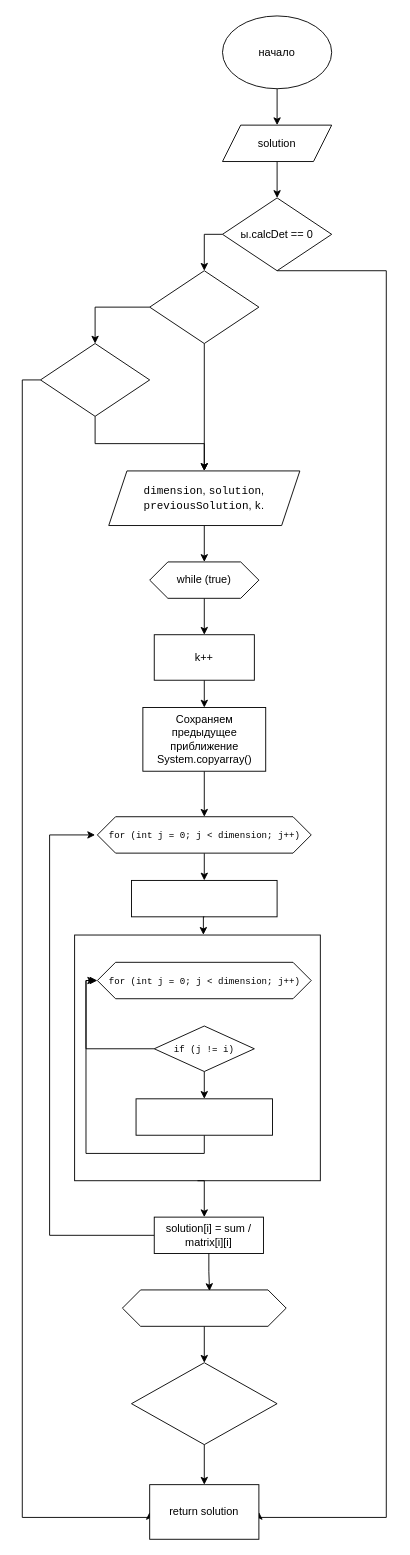
Image size: 410x1555. Some labels were removed from this diagram. The box of each missing label's shape, as (x1, y1, x2, y2) in pixels:
for (int i=0; i < dimension; i++): (121, 1289, 286, 1326)
Math.abs(solution[i] - previousSolution[i]) > accuracy: (131, 1362, 277, 1445)
sum -= matrix[i][j] * solution[j]: (135, 1098, 273, 1135)
sum = matrix[i][dimension]: (131, 880, 277, 917)
ы .doPermuts: (40, 343, 150, 416)
ы.checkDiagonal: (149, 270, 259, 344)
